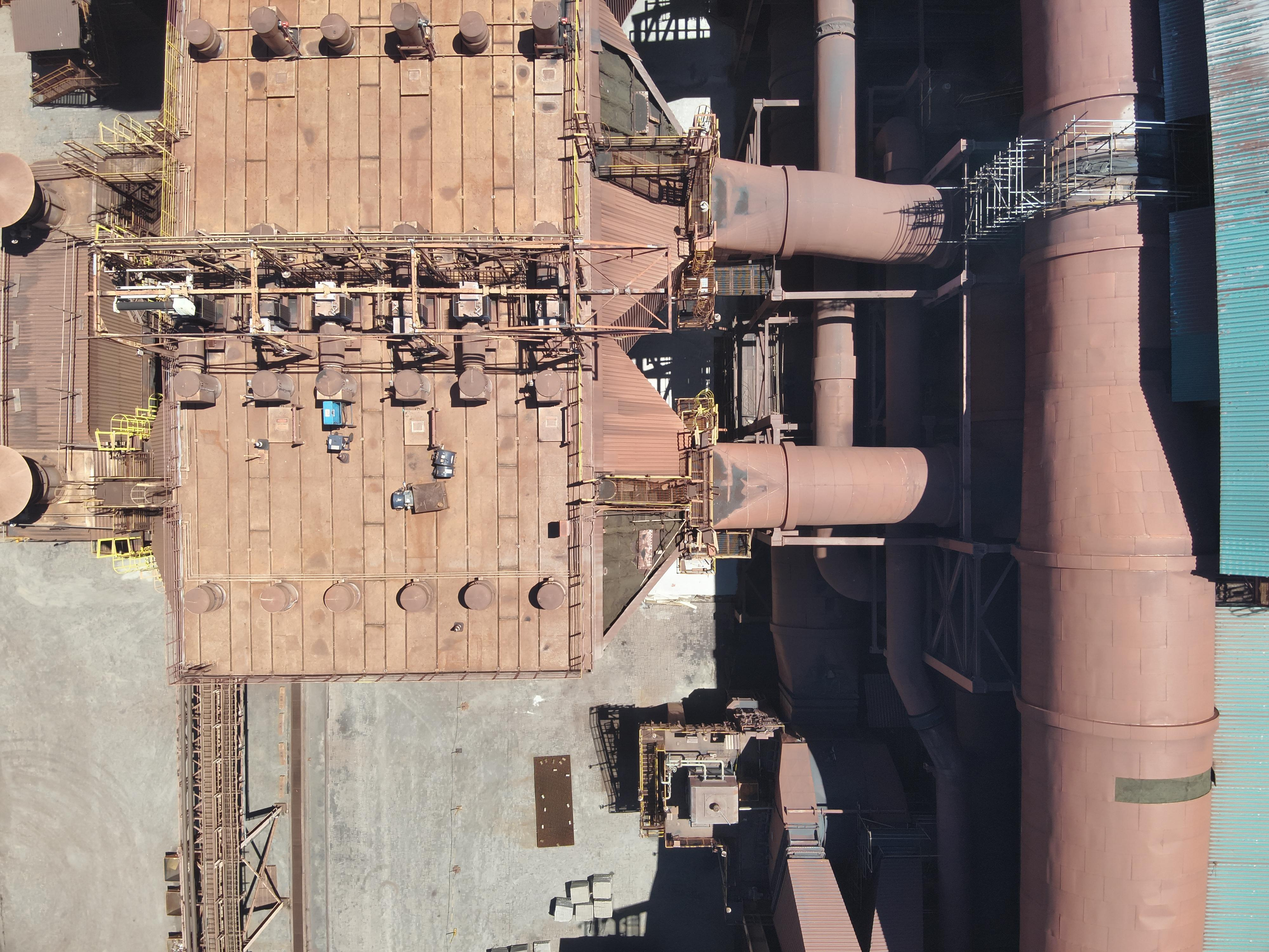Failures: (593, 31, 687, 206), (595, 490, 691, 650), (1113, 767, 1219, 814)
